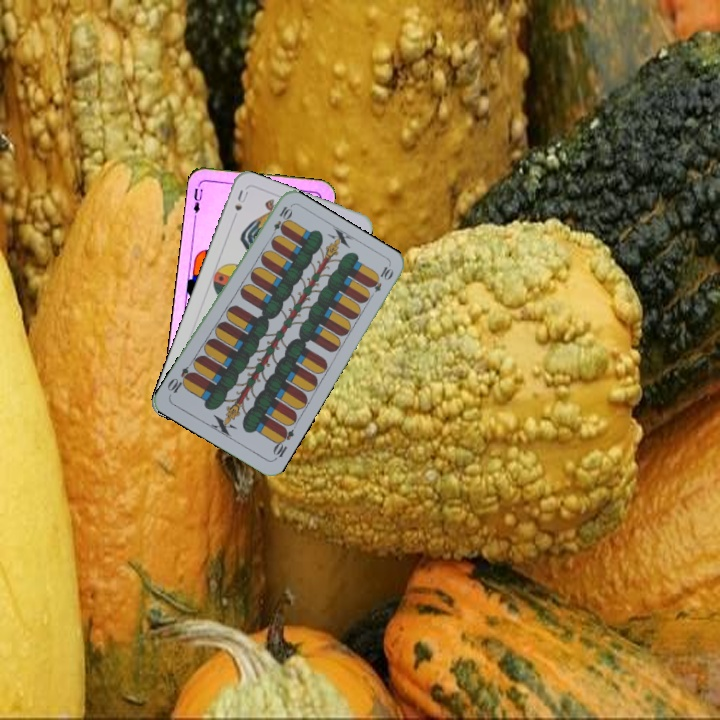E10: (269, 423, 297, 463), (267, 202, 294, 241)
EU: (188, 180, 205, 216)
SU: (230, 186, 251, 213)
